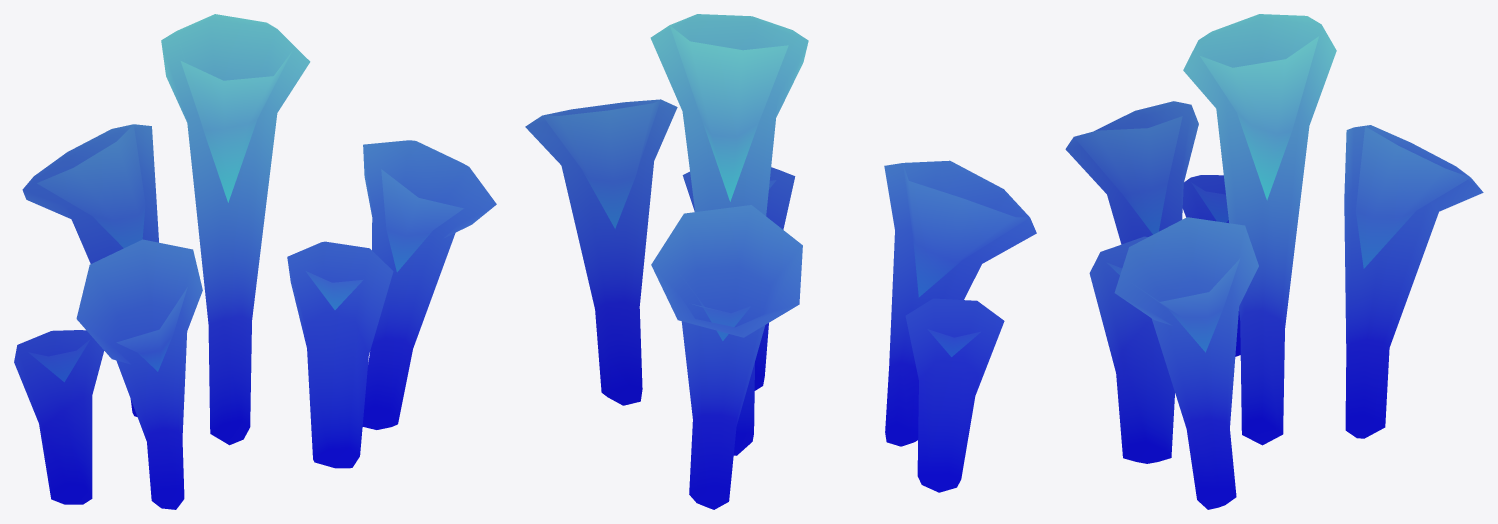
File: SM_Env_Tubes_01.gltf
The picture shows the model from 3 angles, left to right: view 1: azimuth 30°, elevation 25°; view 2: azimuth 150°, elevation 25°; view 3: azimuth 270°, elevation 25°; orthographic projection. The views are drawn at different scales.
Visible parts, largest first — view 1: SM_Env_Tubes_01_LOD0; view 2: SM_Env_Tubes_01_LOD0; view 3: SM_Env_Tubes_01_LOD0.
Part boxes in pixels (x1,y1,x2,y2): SM_Env_Tubes_01_LOD0: [14, 14, 496, 509]; SM_Env_Tubes_01_LOD0: [525, 14, 1036, 509]; SM_Env_Tubes_01_LOD0: [1065, 14, 1483, 509].
Size of the model in its own units: 1.51 by 1.34 by 1.2.
